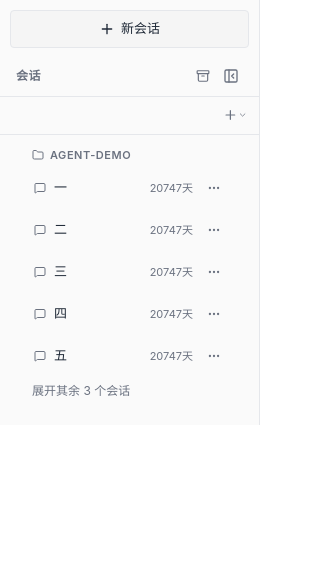
Test: Sidebar 会话管理 › 点击展开显示全部
The image size is (320, 568).
Click the button "展开其余 3 个会话" at (130, 391), box [16, 377, 243, 405]
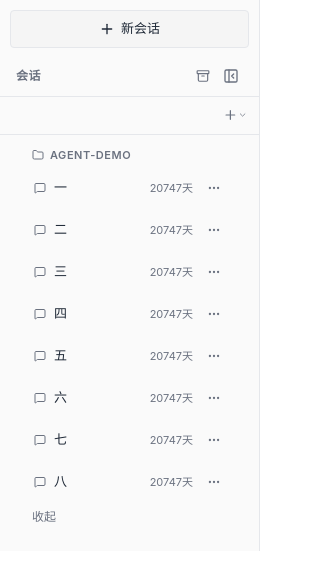
Expected: the text "六" is shown, [54, 389, 67, 405]
Expected: the text "八" is shown, [54, 473, 67, 489]
Expected: the button "收起" is shown, [16, 503, 243, 531]
